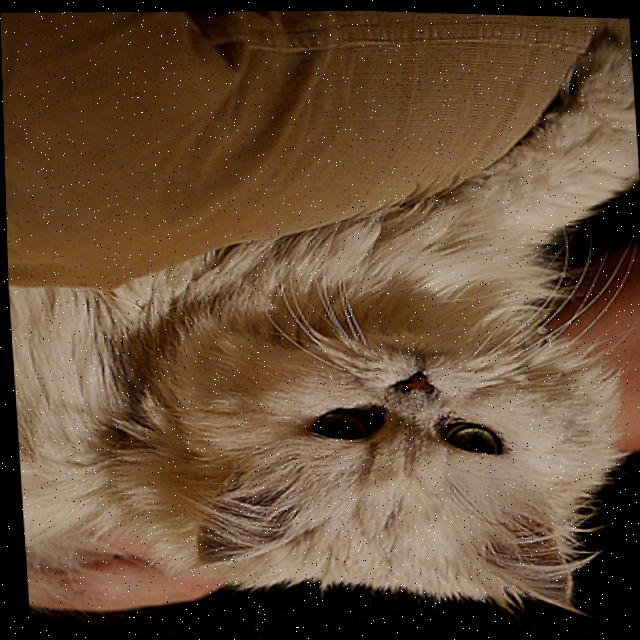Persian: (0, 21, 640, 636)
